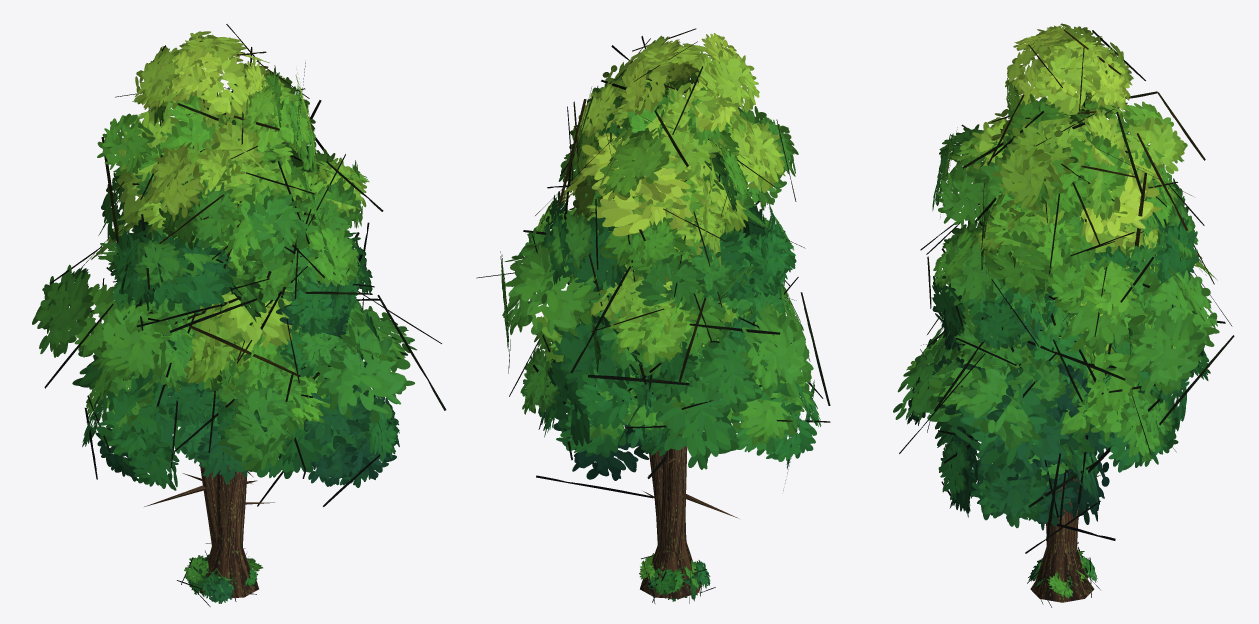
The model's file is ptree.glb.
3 renders of one model, left to right at view 1: azimuth 30°, elevation 25°; view 2: azimuth 150°, elevation 25°; view 3: azimuth 270°, elevation 25°, orthographic.
Visible parts, largest first — view 1: pt_tree_d, pt_tree_c, pt_tree_a, pt_far_a, pt_far_b, pt_tree_b, pt_bush_a, pt_bush_b; view 2: pt_tree_d, pt_far_a, pt_tree_a, pt_far_b, pt_tree_b, pt_tree_c, pt_bush_a; view 3: pt_tree_d, pt_tree_a, pt_far_a, pt_tree_c, pt_far_b, pt_tree_b, pt_bush_a.
Part boxes in pixels (x1,y1,x2,y2): pt_tree_d: (97, 24, 374, 587); pt_tree_c: (82, 297, 399, 598); pt_tree_a: (98, 65, 383, 556); pt_far_a: (32, 137, 446, 471); pt_far_b: (72, 279, 381, 546); pt_tree_b: (82, 204, 274, 549); pt_bush_a: (177, 543, 262, 596); pt_bush_b: (194, 568, 256, 606); pt_tree_d: (532, 28, 805, 585); pt_far_a: (476, 99, 830, 545); pt_tree_a: (518, 78, 796, 570); pt_far_b: (533, 262, 799, 511); pt_tree_b: (551, 195, 796, 554); pt_tree_c: (509, 282, 830, 598); pt_bush_a: (639, 552, 701, 603); pt_tree_d: (932, 23, 1205, 592); pt_tree_a: (920, 99, 1188, 560); pt_far_a: (893, 130, 1234, 553); pt_tree_c: (906, 315, 1178, 602); pt_far_b: (927, 289, 1210, 555); pt_tree_b: (1045, 219, 1217, 527); pt_bush_a: (1035, 542, 1100, 598).
Size of the model in its own units: 12.7 by 20.77 by 12.27.
Materials: 1 (1 with a texture image).
